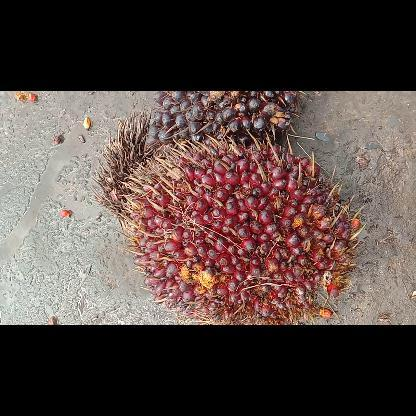Janjang kosong: (90, 112, 158, 212)
TBS masak: (115, 128, 365, 324)
TBS mentah: (146, 91, 304, 153)
